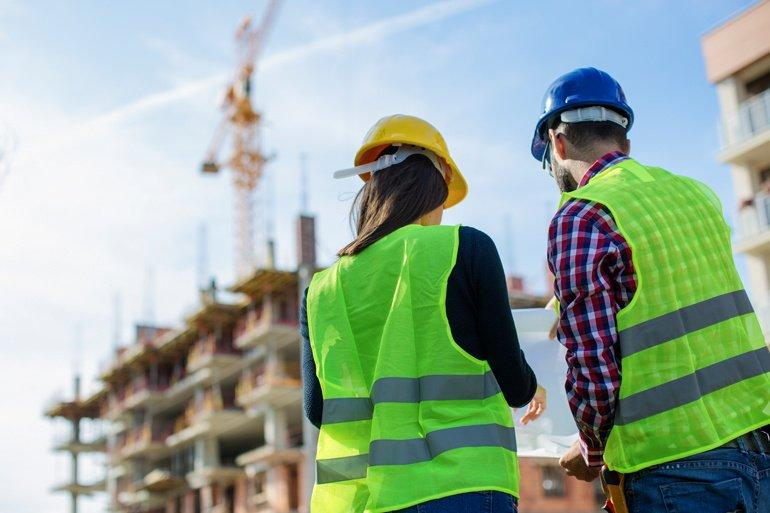helmet: (355, 112, 471, 209), (531, 67, 637, 165)
